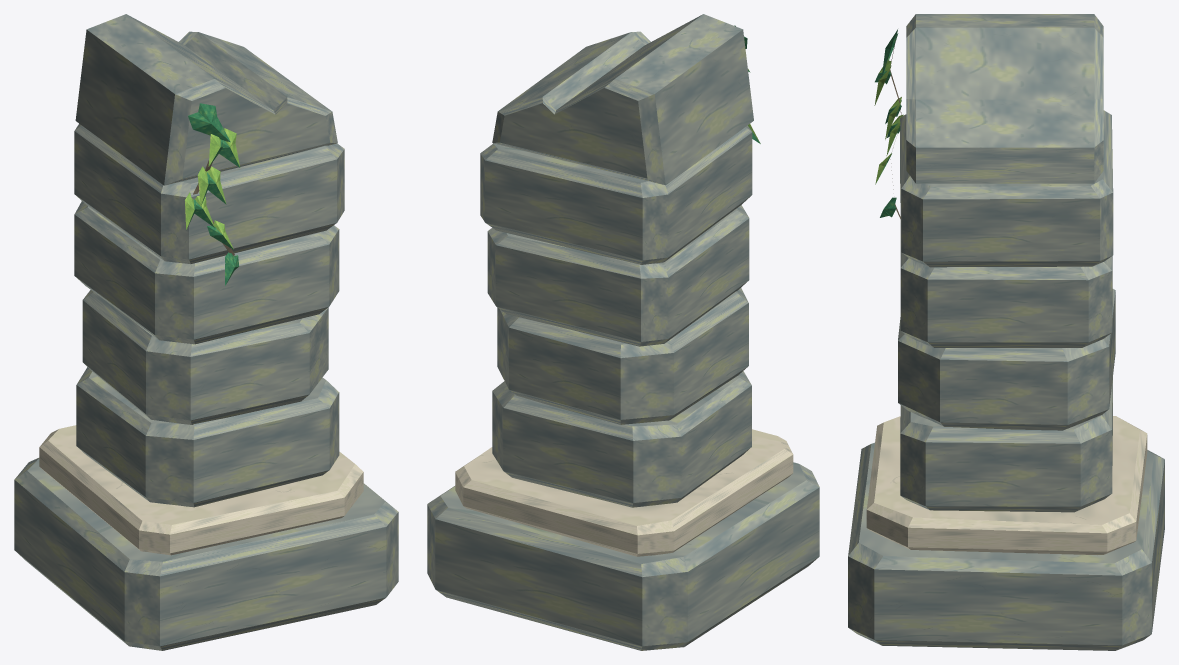
The model's file is BrokenPillar.fbx.
The picture shows the model from 3 angles, left to right: view 1: azimuth 30°, elevation 25°; view 2: azimuth 150°, elevation 25°; view 3: azimuth 270°, elevation 25°; orthographic projection.
Parts seen in each view (by area): view 1: BrokenPillar; view 2: BrokenPillar; view 3: BrokenPillar.
Boxes of the visible parts, left/top/right/bottom form: BrokenPillar: left=14, top=14, right=398, bottom=650; BrokenPillar: left=427, top=14, right=819, bottom=650; BrokenPillar: left=848, top=14, right=1164, bottom=650.
Size of the model in its own units: 203 by 375 by 199.
Materials: 1 (1 with a texture image).
